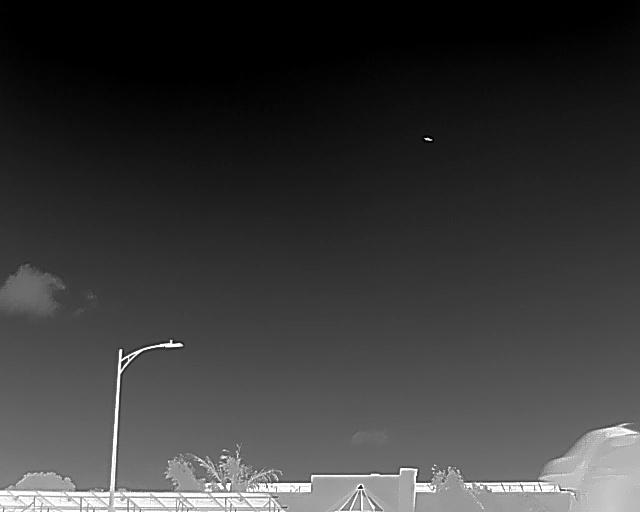fpv-drone: (423, 136, 433, 142)
